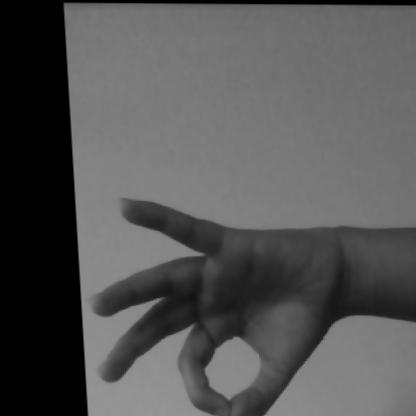ok: (69, 175, 380, 415)
